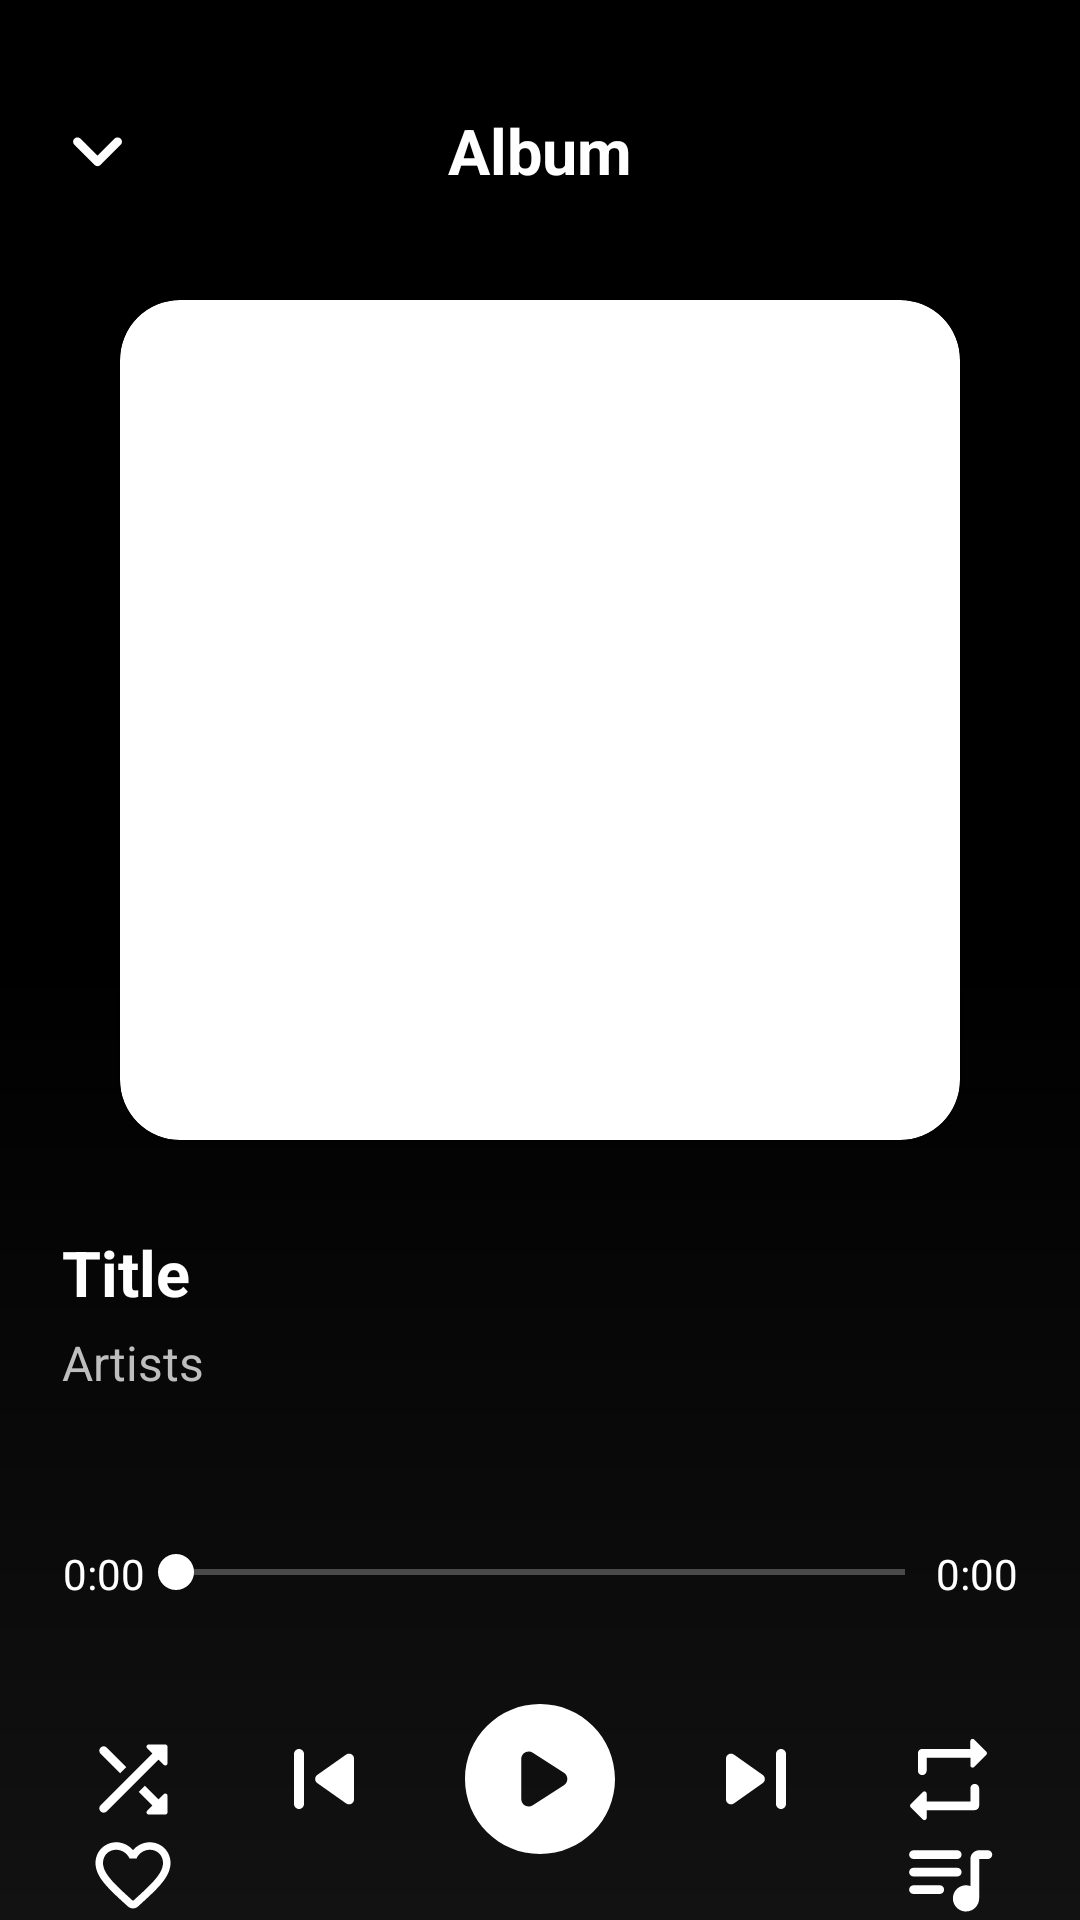

Locate icon controls on the screen. Image size 1080*1920, boxes as (x1=x1, y1=y1, x2=x2, y2=y2).
arrow down: (x1=73, y1=137, x2=122, y2=167)
heart un: (x1=95, y1=1842, x2=171, y2=1909)
loop: (x1=910, y1=1739, x2=987, y2=1820)
play: (x1=465, y1=1704, x2=615, y2=1854)
shuffle: (x1=99, y1=1744, x2=168, y2=1815)
skip next: (x1=726, y1=1749, x2=786, y2=1809)
skip previous: (x1=294, y1=1749, x2=354, y2=1809)
